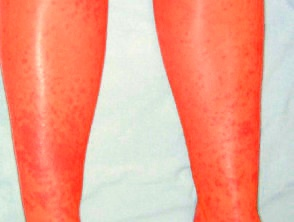SJS-TEN: (147, 0, 272, 222), (0, 0, 114, 222)
